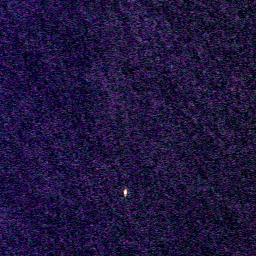Ship: (120, 185, 129, 199)
